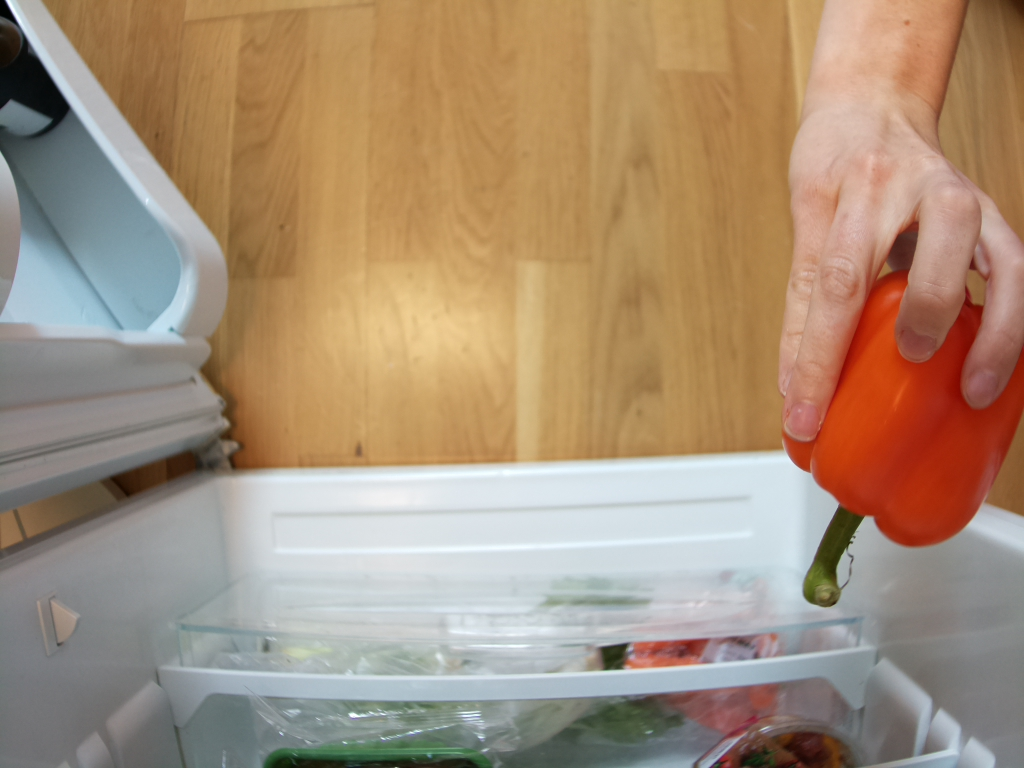pepper: (784, 269, 1024, 606)
